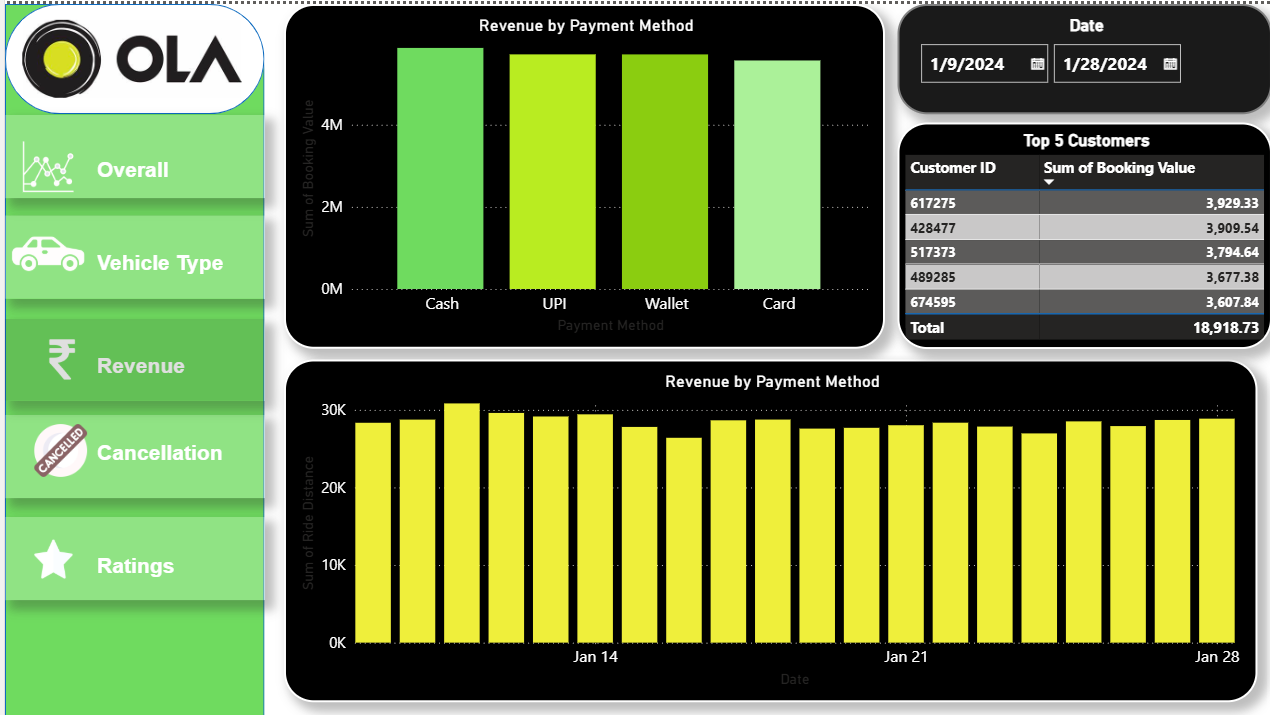

What the dashboard file says about the page in this screenshot:
{"tool":"powerbi","page":{"name":"Revenue","canvas":[1280,720],"ordinal":2},"visuals":[{"type":"shape","box":[0,0,261.9,720.6],"z":0},{"type":"shape","box":[0,0,261.9,111.1],"z":1000},{"type":"image","box":[12.7,0,231.7,111.1],"z":2000},{"type":"image","box":[0,133.3,87.3,61.9],"z":3000},{"type":"textbox","box":[87.3,149.2,104.8,46],"z":4000},{"type":"textbox","box":[87.3,244.4,157.1,54],"z":5000},{"type":"textbox","box":[87.3,347.6,174.6,36.5],"z":6000},{"type":"textbox","box":[87.3,436.5,146,39.7],"z":7000},{"type":"textbox","box":[87.3,549.2,174.6,41.3],"z":8000},{"type":"image","box":[0,214.3,87.3,84.1],"z":9000},{"type":"image","box":[0,333.3,115.9,50.8],"z":10000},{"type":"image","box":[23.8,412.7,63.5,74.6],"z":11000},{"type":"image","box":[23.8,530.2,49.2,60.3],"z":12000},{"type":"columnChart","title":"Revenue by Payment Method","fields":{"Y":["Sum(indore ola dataset(1).Booking Value)"],"Category":["indore ola dataset(1).Payment Method"]},"box":[281.6,0,606.6,347.7],"z":13000},{"type":"actionButton","box":[0,414.5,262.3,84.2],"z":14000},{"type":"actionButton","box":[0,518.2,262.3,84.2],"z":15000},{"type":"actionButton","box":[0,213.7,262.3,84.2],"z":16000},{"type":"actionButton","box":[0,317.4,262.3,82.6],"z":17000},{"type":"actionButton","box":[0,111.7,262.3,84.2],"z":18000},{"type":"columnChart","title":"Revenue by Payment Method","fields":{"Y":["Sum(indore ola dataset(1).Ride Distance)"],"Category":["indore ola dataset(1).Date"]},"box":[281.6,359.1,982.7,345.8],"z":19000},{"type":"slicer","title":"Date","fields":{"Values":["indore ola dataset(1).Date"]},"box":[901.4,0,378,111.5],"z":20000},{"type":"tableEx","title":"Top 5 Customers","fields":{"Values":["indore ola dataset(1).Customer ID","Sum(indore ola dataset(1).Booking Value)"]},"box":[901.4,119.1,378,228.7],"z":21000}]}

Visuals, with their boxes in screenshot pixels (x1, y1, x2, y2), scaled from the page's 1280x720 canvas onto the 1270x715 screenshot:
shape: crop(0, 0, 260, 714)
shape: crop(0, 0, 260, 110)
image: crop(13, 0, 242, 110)
image: crop(0, 132, 87, 194)
textbox: crop(87, 148, 191, 194)
textbox: crop(87, 243, 242, 296)
textbox: crop(87, 345, 260, 381)
textbox: crop(87, 433, 231, 473)
textbox: crop(87, 545, 260, 586)
image: crop(0, 213, 87, 296)
image: crop(0, 331, 115, 381)
image: crop(24, 410, 87, 484)
image: crop(24, 527, 72, 586)
"Revenue by Payment Method" columnChart: crop(279, 0, 881, 345)
actionButton: crop(0, 412, 260, 495)
actionButton: crop(0, 515, 260, 598)
actionButton: crop(0, 212, 260, 296)
actionButton: crop(0, 315, 260, 397)
actionButton: crop(0, 111, 260, 195)
"Revenue by Payment Method" columnChart: crop(279, 357, 1254, 700)
"Date" slicer: crop(894, 0, 1269, 111)
"Top 5 Customers" tableEx: crop(894, 118, 1269, 345)
